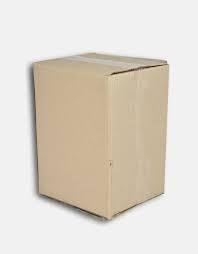Cardboard: (24, 41, 176, 237)
